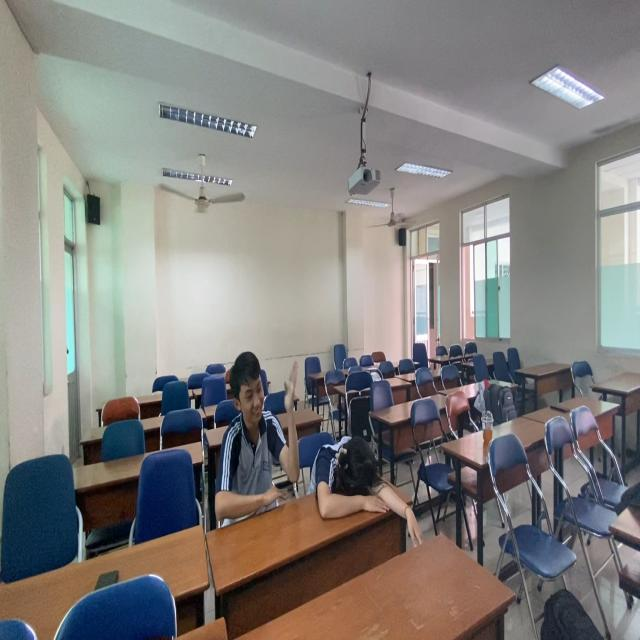raise_hand: (219, 345, 305, 517)
sleep: (310, 430, 402, 528)
